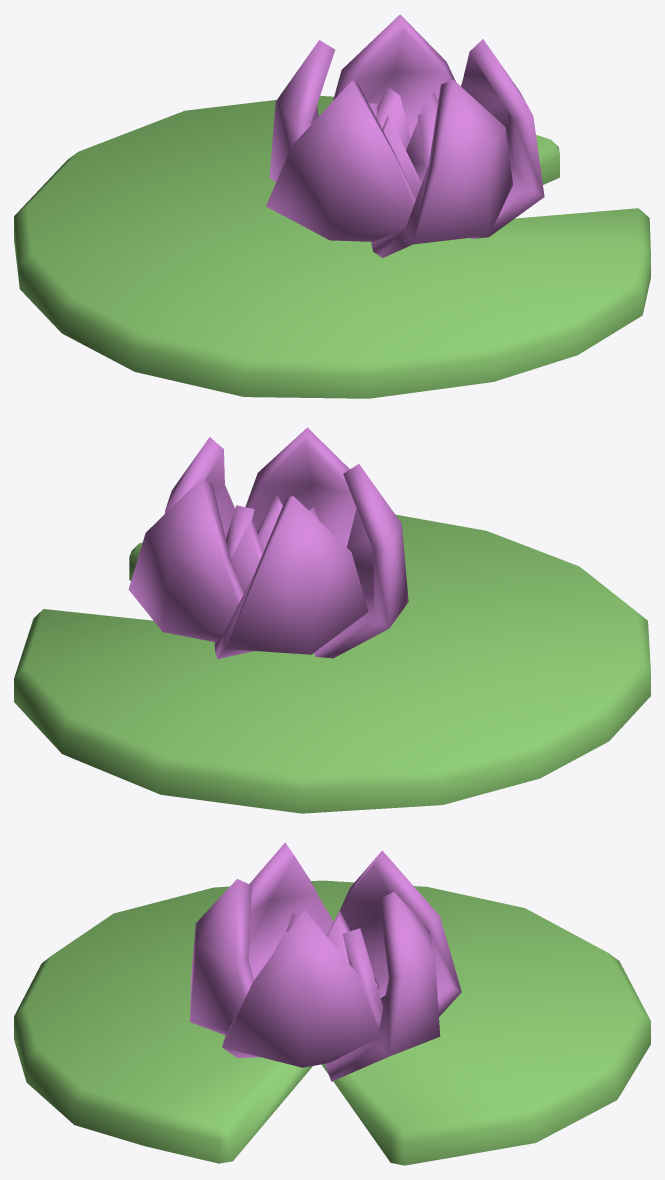
File: lilypad2.glb
3 renders of one model, top to bottom at view 1: azimuth 30°, elevation 25°; view 2: azimuth 150°, elevation 25°; view 3: azimuth 270°, elevation 25°, orthographic. The views are drawn at different scales.
Parts seen in each view (by area): view 1: pad, lily; view 2: pad, lily; view 3: pad, lily.
Boxes of the visible parts, x1,y1,x2,y2 form: pad: [14, 95, 650, 398]; lily: [266, 14, 544, 257]; pad: [14, 514, 650, 813]; lily: [128, 427, 408, 658]; pad: [14, 880, 650, 1165]; lily: [190, 842, 461, 1081].
Bounding box in the file's own units: 0.3993 × 0.1419 × 0.4184.
